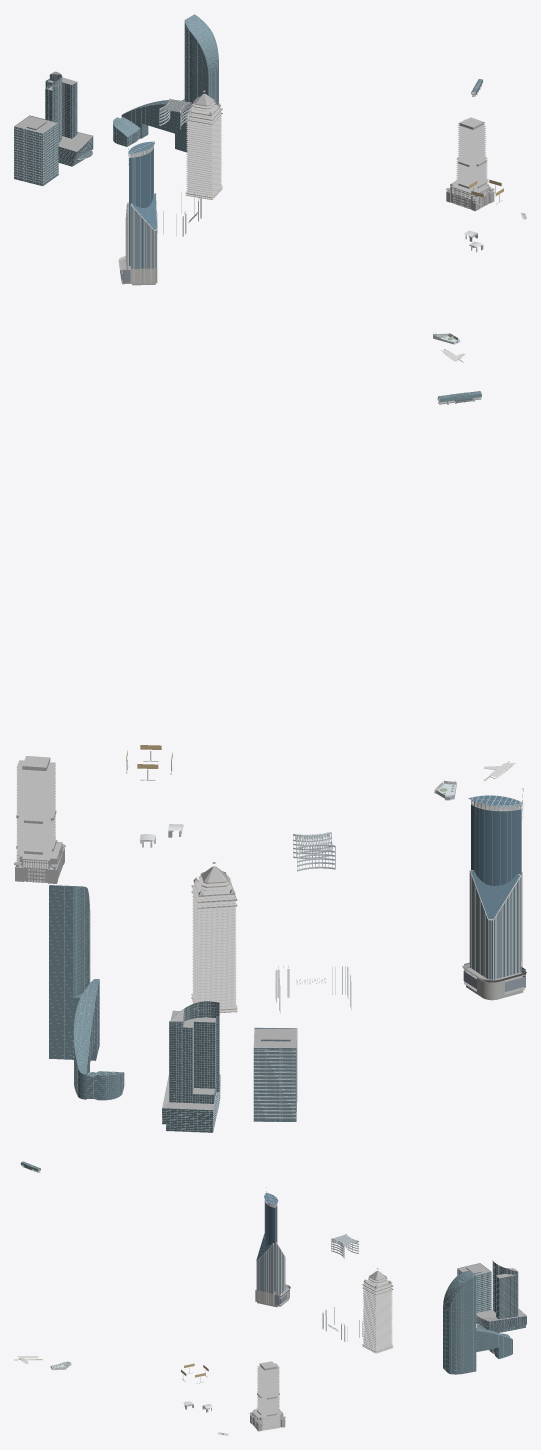
File: lujiazui-5.glb
3 renders of one model, top to bottom at view 1: azimuth 30°, elevation 25°; view 2: azimuth 150°, elevation 25°; view 3: azimuth 270°, elevation 25°, orthographic. The views are drawn at different scales.
Visible parts, largest first — view 1: source_2515_Mat3d66-1303573-2120-8235_part0, source_2703_Mat3d66-1303573-2170-3213_part0, source_2742_Mat3d66-1303573-217-7508_part0, source_2517_Mat3d66-1303573-2166-1518_part0, source_2752_新上海国际_楼板_part0, source_2706_Mat3d66-1303573-244-8902_part0, source_2530_Mat3d66-1303573-2110-2540_part0, source_2529_Mat3d66-1303573-2120-8235_part0, source_2524_Mat3d66-1303573-2110-2540_part0, source_2741_上海黄金置地大厦-梁_part0, source_2516_Mat3d66-1303573-2119-613_part0, source_2739_周围建筑-金属1_part0 (+4 smaller); view 2: source_2515_Mat3d66-1303573-2120-8235_part0, source_2703_Mat3d66-1303573-2170-3213_part0, source_2517_Mat3d66-1303573-2166-1518_part0, source_2742_Mat3d66-1303573-217-7508_part0, source_2524_Mat3d66-1303573-2110-2540_part0, source_2706_Mat3d66-1303573-244-8902_part0, source_2752_新上海国际_楼板_part0, source_2516_Mat3d66-1303573-2119-613_part0, source_2529_Mat3d66-1303573-2120-8235_part0, source_2530_Mat3d66-1303573-2110-2540_part0, source_2741_上海黄金置地大厦-梁_part0, source_2739_周围建筑-金属1_part0 (+4 smaller); view 3: source_2515_Mat3d66-1303573-2120-8235_part0, source_2742_Mat3d66-1303573-217-7508_part0, source_2703_Mat3d66-1303573-2170-3213_part0, source_2517_Mat3d66-1303573-2166-1518_part0, source_2524_Mat3d66-1303573-2110-2540_part0, source_2706_Mat3d66-1303573-244-8902_part0, source_2752_新上海国际_楼板_part0, source_2741_上海黄金置地大厦-梁_part0, source_2516_Mat3d66-1303573-2119-613_part0, source_2739_周围建筑-金属1_part0, source_2529_Mat3d66-1303573-2120-8235_part0, source_2530_Mat3d66-1303573-2110-2540_part0 (+1 smaller).
Part boxes in pixels (bbox=[...]): source_2515_Mat3d66-1303573-2120-8235_part0: bbox=[113, 14, 218, 152]; source_2703_Mat3d66-1303573-2170-3213_part0: bbox=[127, 141, 156, 269]; source_2742_Mat3d66-1303573-217-7508_part0: bbox=[187, 101, 221, 198]; source_2517_Mat3d66-1303573-2166-1518_part0: bbox=[45, 74, 92, 166]; source_2752_新上海国际_楼板_part0: bbox=[451, 119, 489, 208]; source_2706_Mat3d66-1303573-244-8902_part0: bbox=[125, 146, 157, 283]; source_2530_Mat3d66-1303573-2110-2540_part0: bbox=[14, 115, 58, 186]; source_2529_Mat3d66-1303573-2120-8235_part0: bbox=[14, 115, 58, 185]; source_2524_Mat3d66-1303573-2110-2540_part0: bbox=[45, 72, 93, 166]; source_2741_上海黄金置地大厦-梁_part0: bbox=[186, 105, 221, 198]; source_2516_Mat3d66-1303573-2119-613_part0: bbox=[113, 17, 218, 146]; source_2739_周围建筑-金属1_part0: bbox=[157, 98, 201, 236]; source_2515_Mat3d66-1303573-2120-8235_part0: bbox=[49, 885, 124, 1100]; source_2703_Mat3d66-1303573-2170-3213_part0: bbox=[470, 795, 521, 979]; source_2517_Mat3d66-1303573-2166-1518_part0: bbox=[162, 1001, 220, 1132]; source_2742_Mat3d66-1303573-217-7508_part0: bbox=[193, 877, 235, 1011]; source_2524_Mat3d66-1303573-2110-2540_part0: bbox=[162, 1001, 220, 1132]; source_2706_Mat3d66-1303573-244-8902_part0: bbox=[469, 800, 522, 979]; source_2752_新上海国际_楼板_part0: bbox=[16, 760, 61, 882]; source_2516_Mat3d66-1303573-2119-613_part0: bbox=[49, 885, 124, 1099]; source_2529_Mat3d66-1303573-2120-8235_part0: bbox=[254, 1028, 296, 1121]; source_2530_Mat3d66-1303573-2110-2540_part0: bbox=[253, 1027, 297, 1121]; source_2741_上海黄金置地大厦-梁_part0: bbox=[192, 881, 236, 1011]; source_2739_周围建筑-金属1_part0: bbox=[275, 832, 351, 1013]; source_2515_Mat3d66-1303573-2120-8235_part0: bbox=[443, 1271, 512, 1374]; source_2742_Mat3d66-1303573-217-7508_part0: bbox=[363, 1277, 392, 1352]; source_2703_Mat3d66-1303573-2170-3213_part0: bbox=[256, 1193, 285, 1294]; source_2517_Mat3d66-1303573-2166-1518_part0: bbox=[476, 1261, 526, 1332]; source_2524_Mat3d66-1303573-2110-2540_part0: bbox=[476, 1260, 526, 1332]; source_2706_Mat3d66-1303573-244-8902_part0: bbox=[256, 1200, 285, 1304]; source_2752_新上海国际_楼板_part0: bbox=[252, 1363, 282, 1430]; source_2741_上海黄金置地大厦-梁_part0: bbox=[363, 1281, 392, 1352]; source_2516_Mat3d66-1303573-2119-613_part0: bbox=[443, 1271, 512, 1374]; source_2739_周围建筑-金属1_part0: bbox=[322, 1234, 362, 1341]; source_2529_Mat3d66-1303573-2120-8235_part0: bbox=[457, 1263, 491, 1312]; source_2530_Mat3d66-1303573-2110-2540_part0: bbox=[457, 1263, 491, 1312].
Size of the model in its own units: 667 by 449 by 1012.
